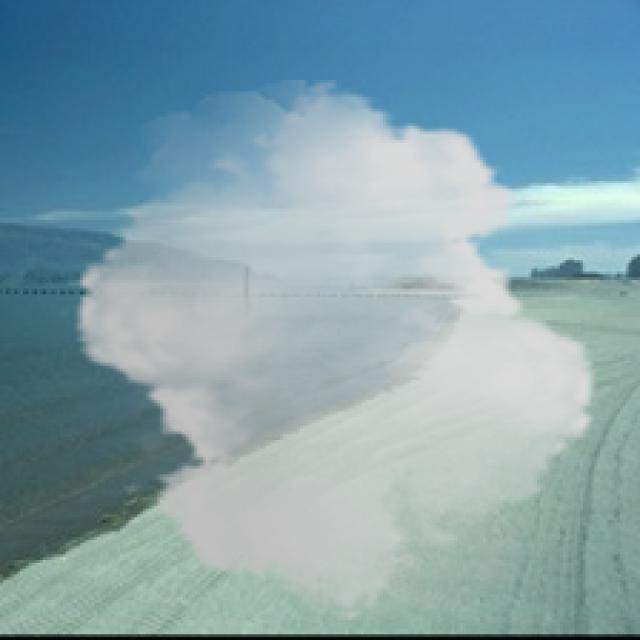Smoke: (54, 80, 617, 623)
